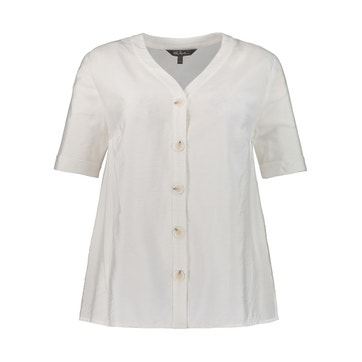S_short blouse: (54, 29, 311, 334)
